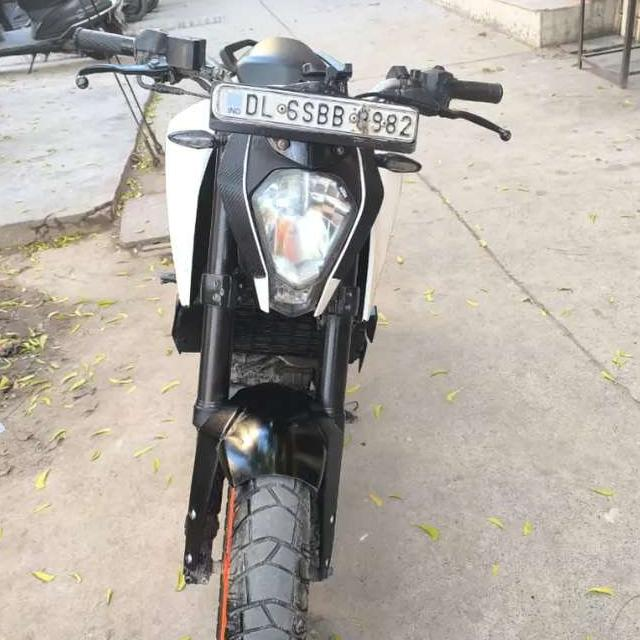Indian_Number_Plate: (211, 84, 419, 144)
